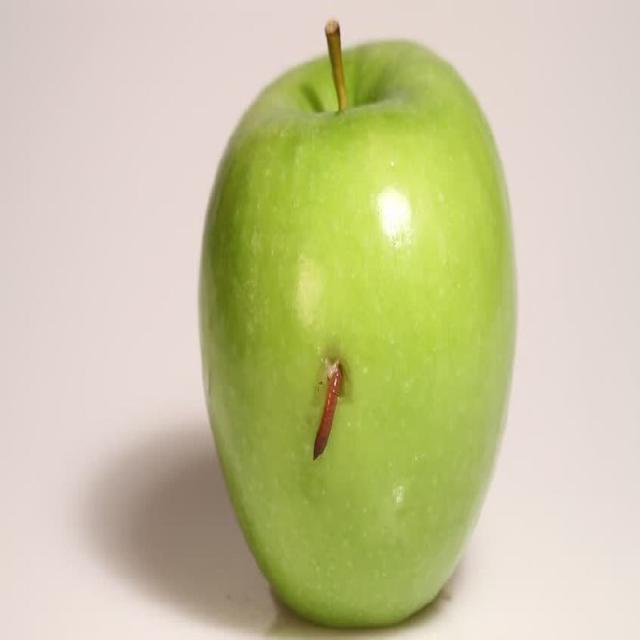Rotten Apple: (198, 41, 518, 632)
